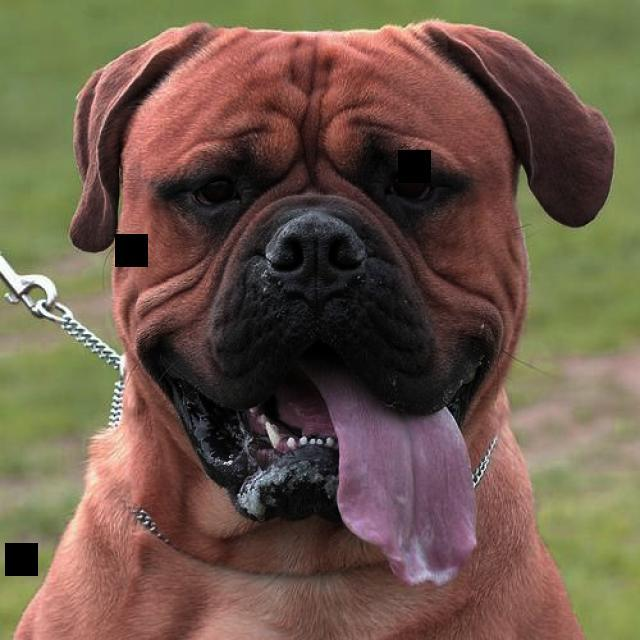adult_dog: (7, 18, 617, 640)
